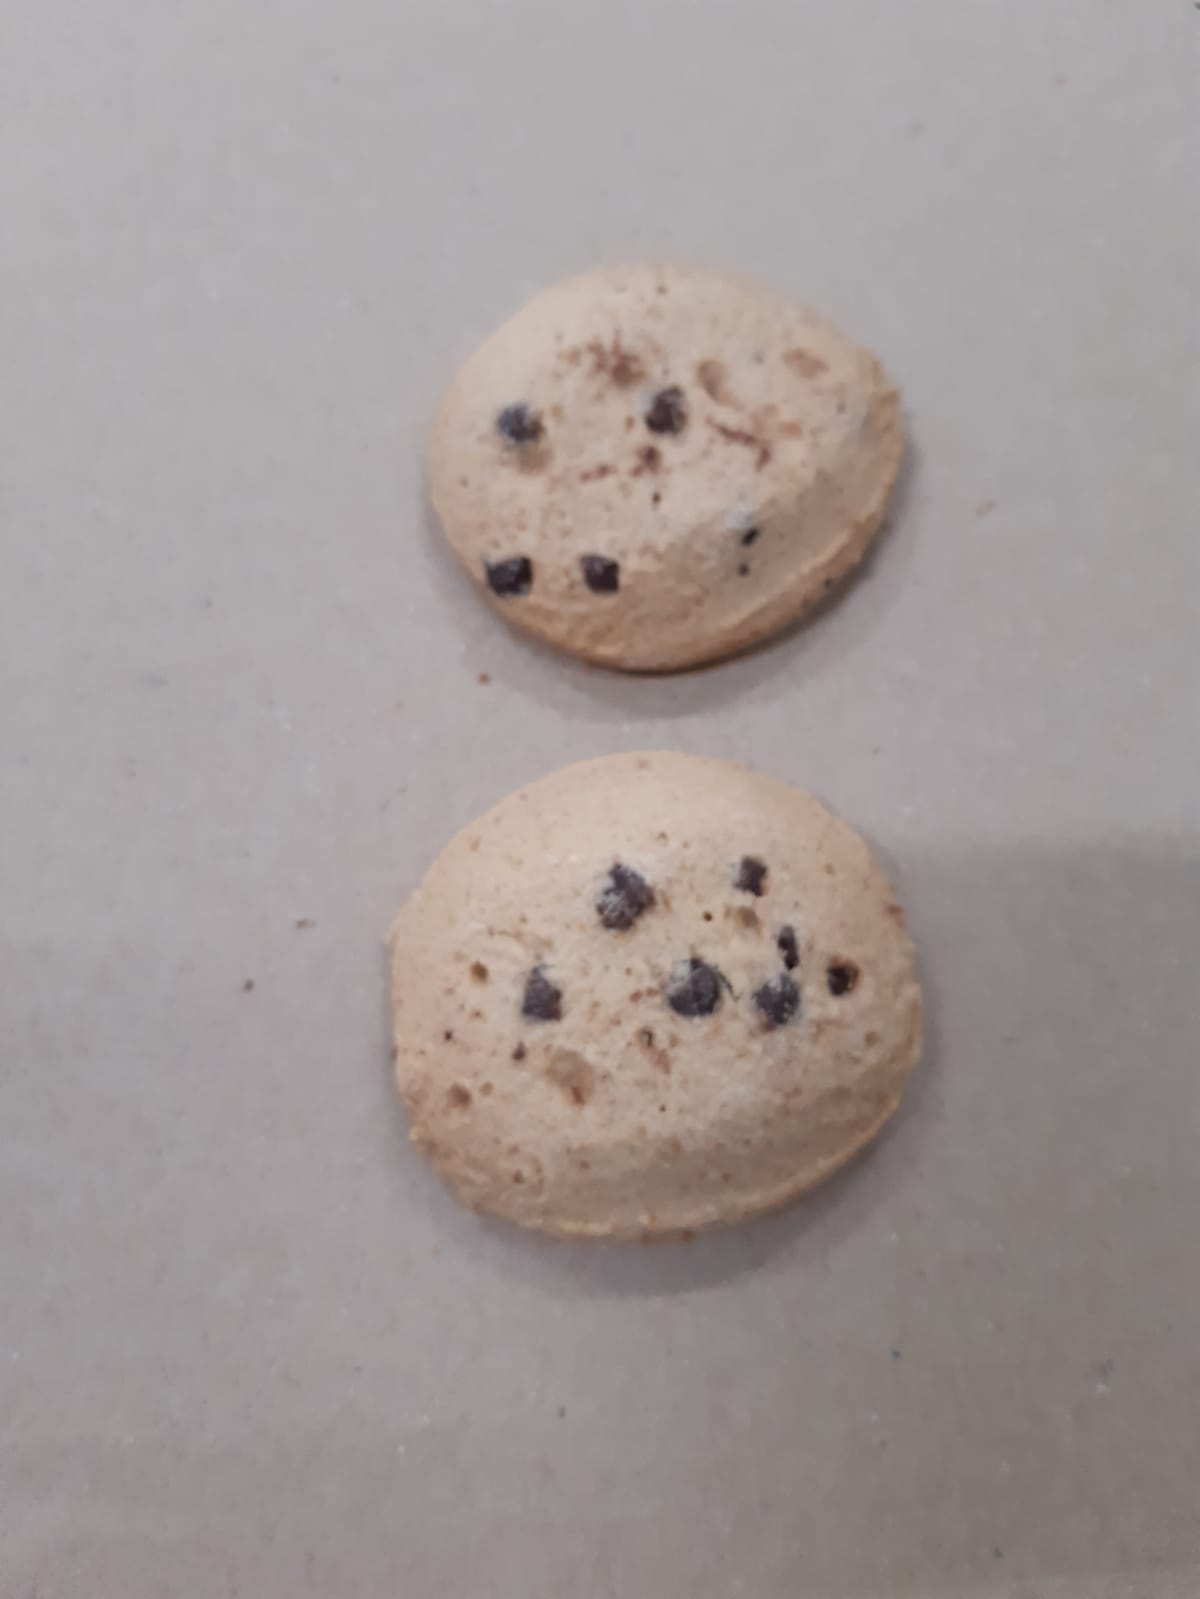Cookie1: (386, 745, 926, 1254), (430, 260, 910, 677)
